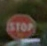stop: (5, 12, 34, 41)
